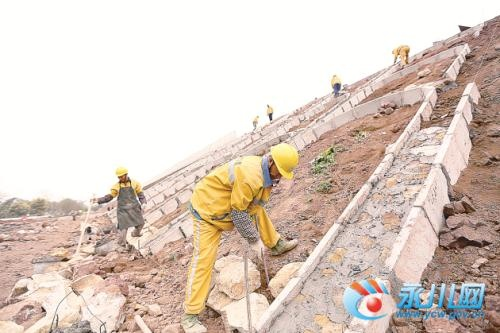yellow: (263, 141, 299, 184), (115, 164, 129, 183)
